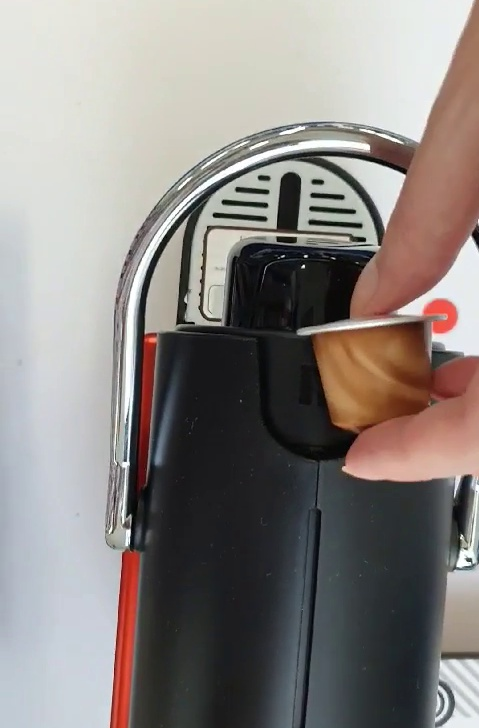capsule_12: (290, 310, 447, 441)
